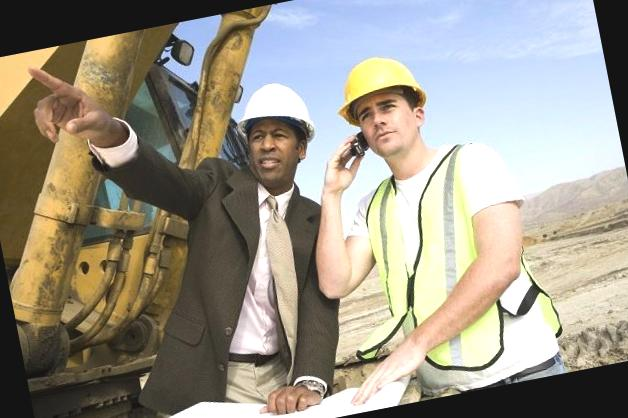helmet: (226, 67, 313, 151), (325, 50, 422, 116)
no_vest: (161, 136, 345, 400)
person: (308, 33, 560, 397), (141, 69, 361, 417)
